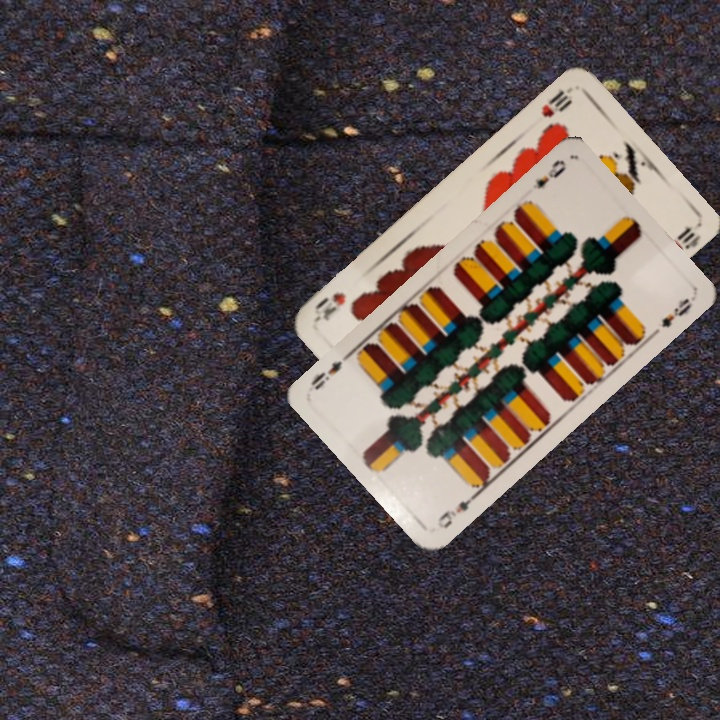E9: (433, 488, 481, 532), (528, 155, 569, 192)
H10: (537, 83, 576, 120)
